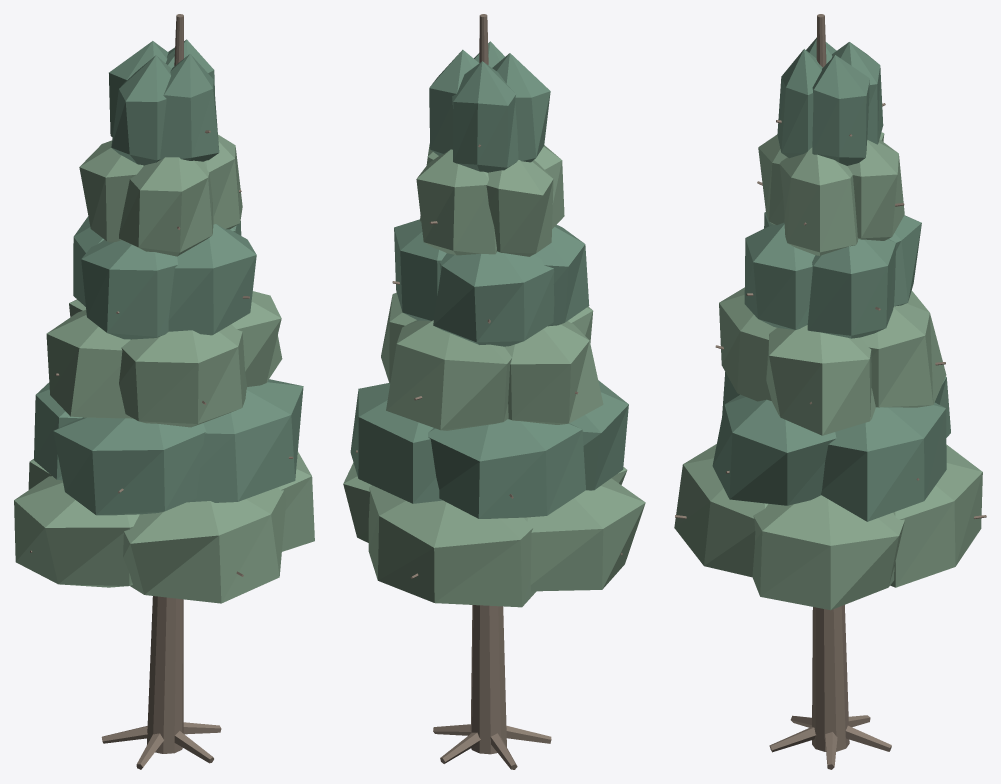
The picture shows the model from 3 angles, left to right: view 1: azimuth 30°, elevation 25°; view 2: azimuth 150°, elevation 25°; view 3: azimuth 270°, elevation 25°; orthographic projection.
Bounding box in the file's own units: 8.18 × 20.61 × 7.95.
